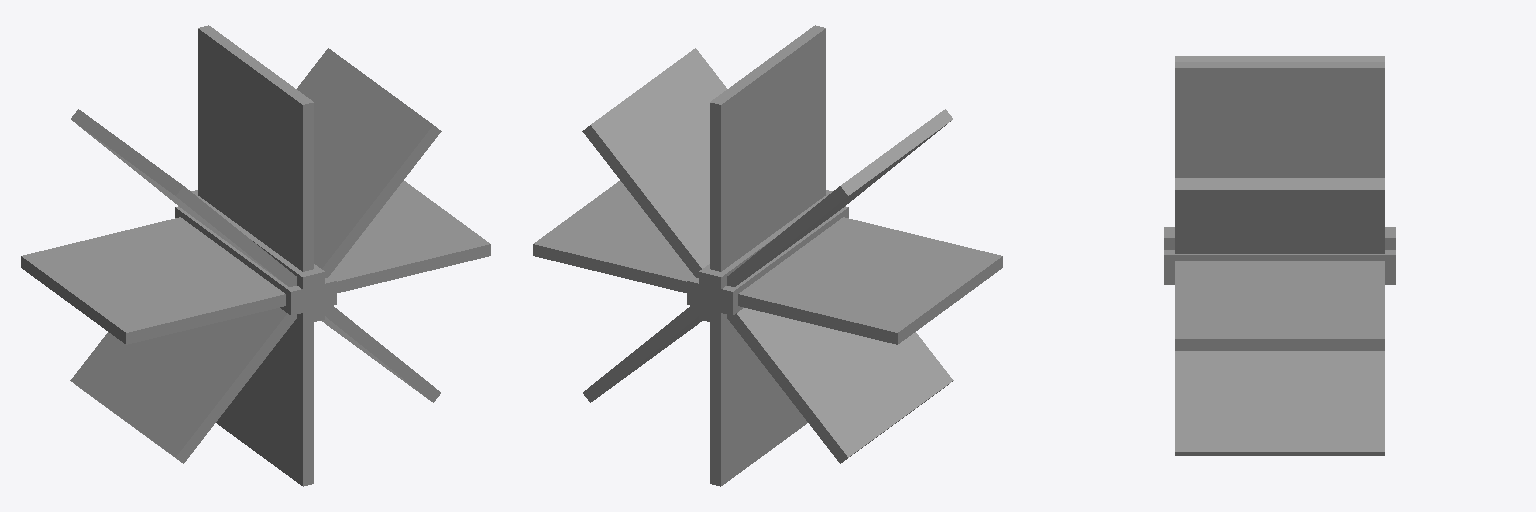
The model's file is waterwheel.obj.
3 renders of one model, left to right at view 1: azimuth 30°, elevation 25°; view 2: azimuth 150°, elevation 25°; view 3: azimuth 270°, elevation 25°, orthographic.
Visible parts, largest first — view 1: Cube.006_Cube.007; view 2: Cube.006_Cube.007; view 3: Cube.006_Cube.007.
Part boxes in pixels (bbox=[...]): Cube.006_Cube.007: bbox=[21, 25, 490, 486]; Cube.006_Cube.007: bbox=[533, 25, 1002, 486]; Cube.006_Cube.007: bbox=[1164, 56, 1395, 455].
Bounding box in the file's own units: 2 × 2 × 1.1.